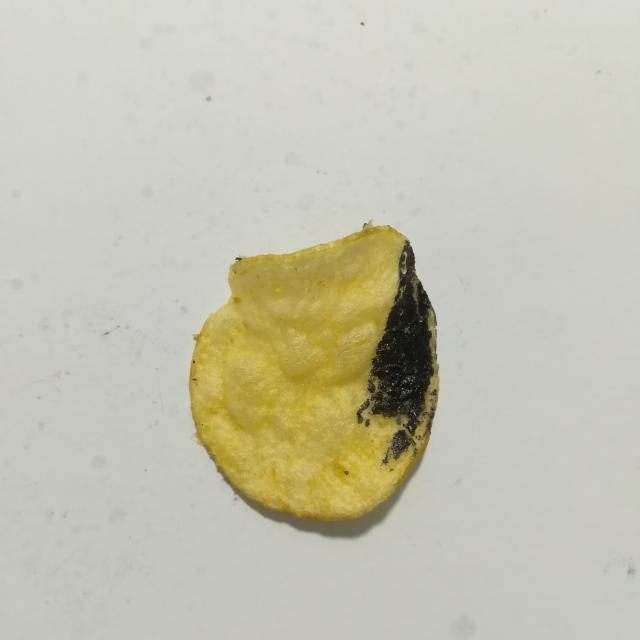chip: (189, 224, 439, 520)
damaged: (368, 240, 436, 436), (382, 429, 417, 464), (356, 398, 370, 424), (365, 419, 370, 427)
semi-damaged: (423, 388, 437, 434)
